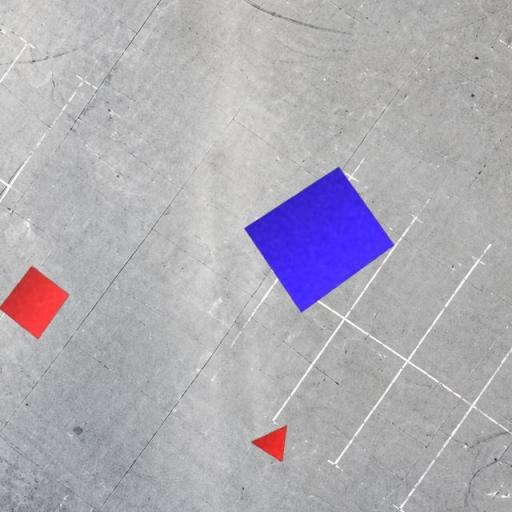BLUE_SQUARE: (243, 166, 395, 314)
RED_SQUARE: (0, 265, 70, 340)
